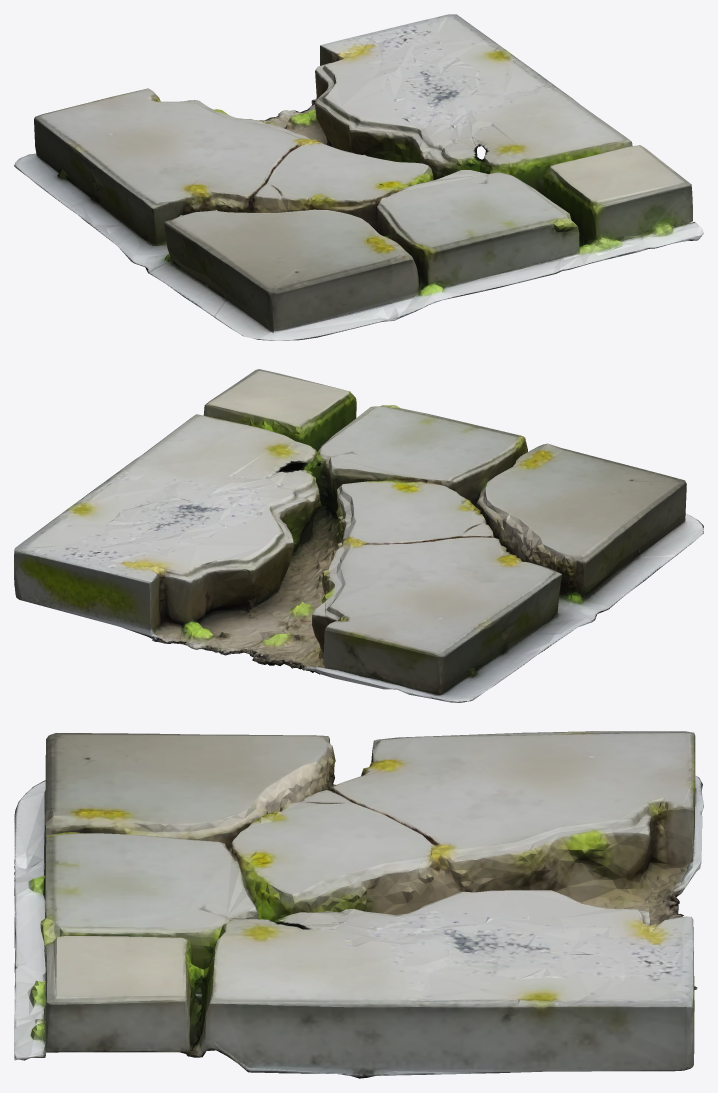
File: generated_slab_broken_a.glb
3 renders of one model, top to bottom at view 1: azimuth 30°, elevation 25°; view 2: azimuth 150°, elevation 25°; view 3: azimuth 270°, elevation 25°, orthographic. The views are drawn at different scales.
Parts seen in each view (by area): view 1: geometry_0; view 2: geometry_0; view 3: geometry_0.
Boxes of the visible parts, box(x1,y1,x2,y2) form: geometry_0: box(14, 14, 703, 340); geometry_0: box(14, 369, 703, 702); geometry_0: box(14, 731, 703, 1078).
Bounding box in the file's own units: 1 × 0.1446 × 0.9868.
1 material, 1 textured.
